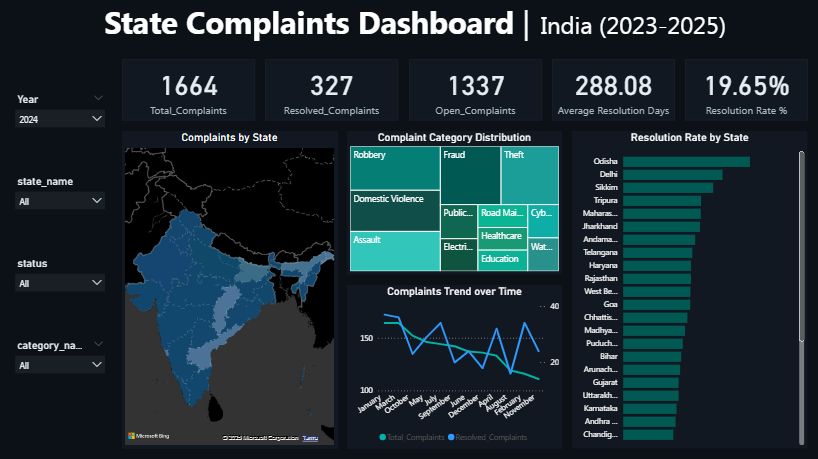

The dashboard page shown, as its layout file describes it:
{"tool":"powerbi","page":{"name":"Page 1","canvas":[1280,720],"ordinal":0},"visuals":[{"type":"card","fields":{"Values":["Base Measures.Average Resolution Days"]},"box":[864,96,192,96],"z":0},{"type":"card","fields":{"Values":["Base Measures.Resolution Rate %"]},"box":[1072,96,192,96],"z":1000},{"type":"card","fields":{"Values":["Base Measures.Open_Complaints"]},"box":[640,96,208,96],"z":2000},{"type":"card","fields":{"Values":["Base Measures.Resolved_Complaints"]},"box":[416,96,208,96],"z":3000},{"type":"card","fields":{"Values":["Base Measures.Total_Complaints"]},"box":[192,96,208,96],"z":4000},{"type":"slicer","fields":{"Values":["complaints_full.Year"]},"box":[16,144,160,64],"z":5000},{"type":"slicer","fields":{"Values":["states_full.state_name"]},"box":[16,272,160,80],"z":6000},{"type":"slicer","fields":{"Values":["complaints_full.status"]},"box":[16,400,160,64],"z":7000},{"type":"slicer","fields":{"Values":["categories_full.category_name"]},"box":[16,528,160,64],"z":8000},{"type":"filledMap","title":"Complaints by State","fields":{"Category":["states_full.state_name"]},"box":[192,208,336,496],"z":9000},{"type":"treemap","title":"Complaint Category Distribution","fields":{"Group":["categories_full.category_name"],"Values":["Base Measures.Total_Complaints"]},"box":[544,208,336,224],"z":10000},{"type":"clusteredBarChart","title":"Resolution Rate by State ","fields":{"Category":["states_full.state_name"],"Y":["Base Measures.Resolution Rate %"]},"box":[896,208,368,496],"z":11000},{"type":"lineChart","title":"Complaints Trend over Time","fields":{"Category":["complaints_full.Month"],"Y":["Base Measures.Total_Complaints"],"Y2":["Base Measures.Resolved_Complaints"]},"box":[544,448,336,256],"z":12000},{"type":"textbox","box":[160,0,1040,80],"z":13000}]}

Visuals, with their boxes in screenshot pixels (x1, y1, x2, y2), scaled from the page's 1280x720 canvas onto the 818x459 screenshot:
card - Base Measures.Average Resolution Days: select_region(552, 61, 675, 122)
card - Base Measures.Resolution Rate %: select_region(685, 61, 808, 122)
card - Base Measures.Open_Complaints: select_region(409, 61, 542, 122)
card - Base Measures.Resolved_Complaints: select_region(266, 61, 399, 122)
card - Base Measures.Total_Complaints: select_region(123, 61, 256, 122)
slicer - complaints_full.Year: select_region(10, 92, 112, 133)
slicer - states_full.state_name: select_region(10, 173, 112, 224)
slicer - complaints_full.status: select_region(10, 255, 112, 296)
slicer - categories_full.category_name: select_region(10, 337, 112, 377)
"Complaints by State" filledMap: select_region(123, 133, 337, 449)
"Complaint Category Distribution" treemap: select_region(348, 133, 562, 275)
"Resolution Rate by State " clusteredBarChart: select_region(573, 133, 808, 449)
"Complaints Trend over Time" lineChart: select_region(348, 286, 562, 449)
textbox: select_region(102, 0, 767, 51)
